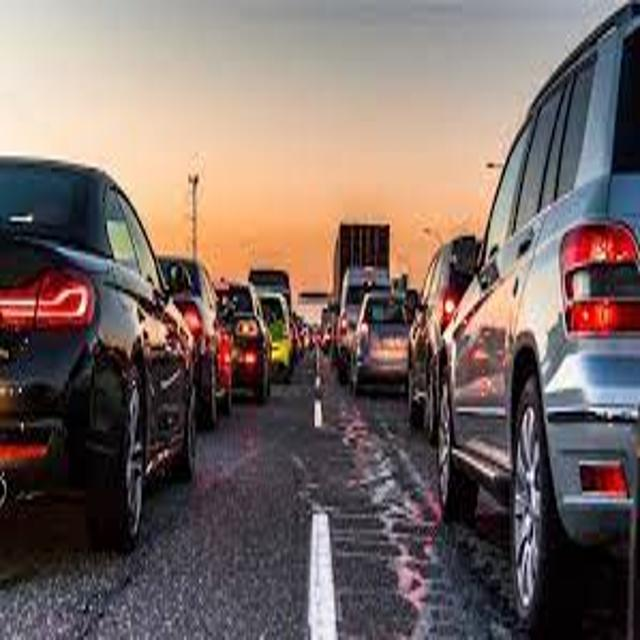car: (437, 1, 640, 622), (1, 157, 198, 549), (405, 236, 483, 445), (152, 258, 234, 428), (209, 282, 272, 406), (351, 292, 415, 393)
